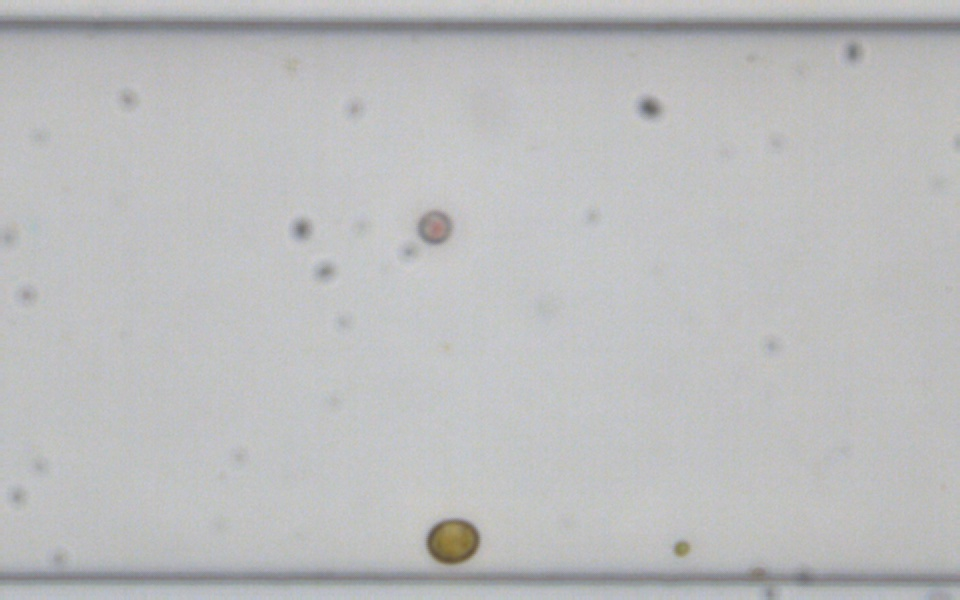Chlorella: (672, 538, 690, 556)
Effrenium: (422, 516, 482, 566)
Porphyridium: (415, 207, 452, 244)
